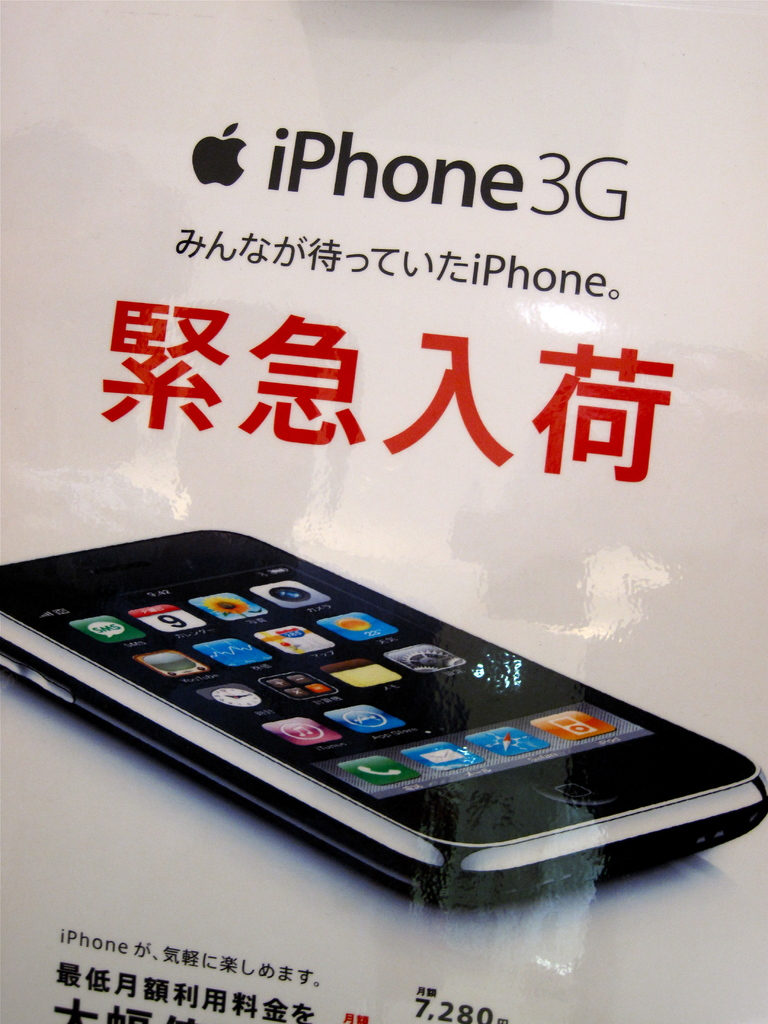Mobile-phone: (0, 520, 768, 896)
